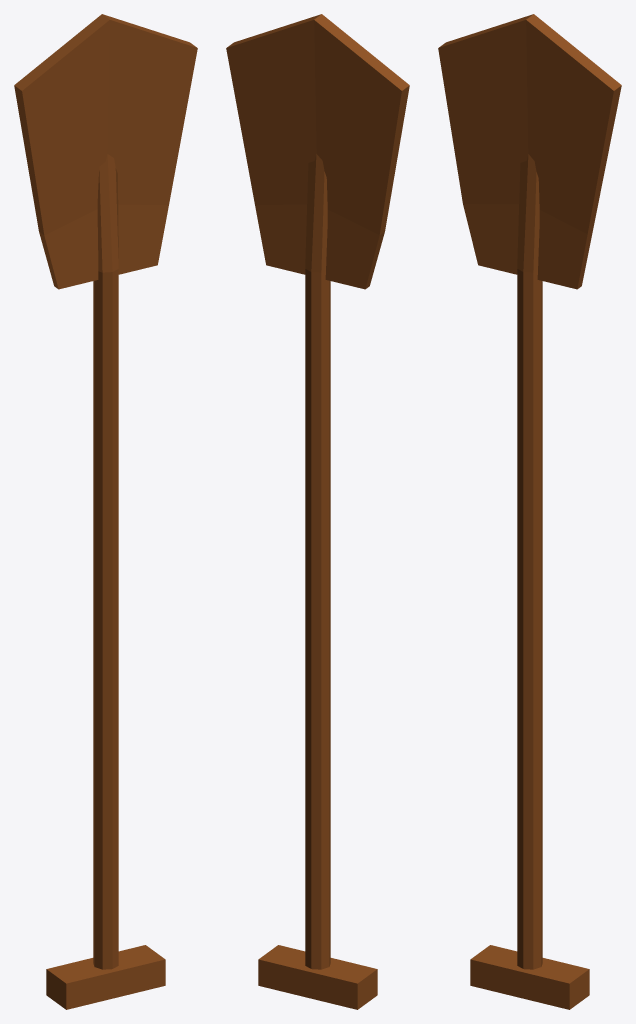
File: paddle.fbx
3 views of the same model, side by side, from view 1: azimuth 30°, elevation 25°; view 2: azimuth 150°, elevation 25°; view 3: azimuth 330°, elevation 25° (orthographic).
Parts seen in each view (by area): view 1: Cylinder; view 2: Cylinder; view 3: Cylinder.
Boxes of the visible parts, x1,y1,x2,y2 form: Cylinder: (14, 14, 197, 1009); Cylinder: (226, 14, 409, 1009); Cylinder: (438, 14, 621, 1009).
Bounding box in the file's own units: 49.16 × 260 × 9.64.
